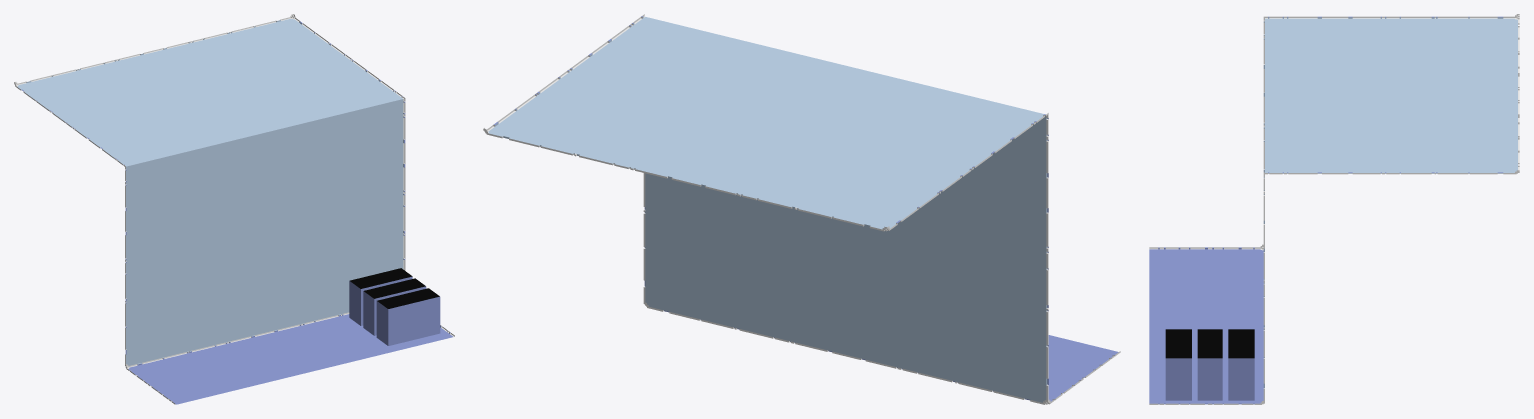
Rendered from Desktop1.fbx.
3 views of the same model, side by side, from view 1: azimuth 30°, elevation 25°; view 2: azimuth 150°, elevation 25°; view 3: azimuth 270°, elevation 25° (orthographic). The views are drawn at different scales.
Visible parts, largest first — view 1: EscritorioCSE; view 2: EscritorioCSE; view 3: EscritorioCSE.
Boxes of the visible parts, x1,y1,x2,y2 form: EscritorioCSE: (14,14,454,404); EscritorioCSE: (483,14,1120,404); EscritorioCSE: (1149,14,1519,404).
Size of the model in its own units: 25300 by 17700 by 25300.
